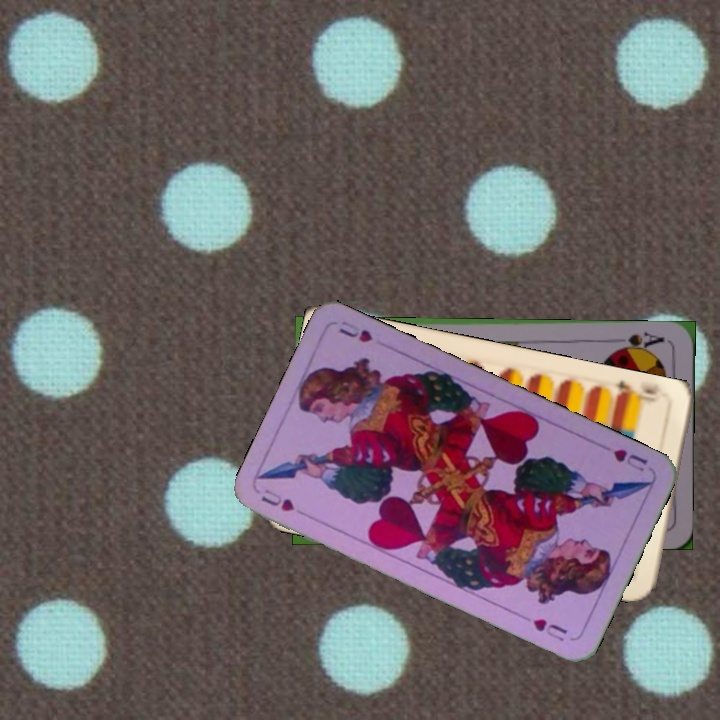E10: (611, 376, 670, 407)
HU: (256, 484, 311, 520), (609, 445, 651, 475)
SA: (610, 327, 667, 355)
